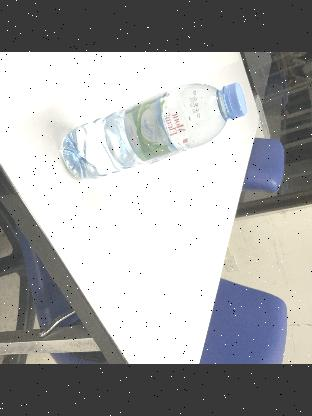Plastic Bottle: (59, 82, 245, 180)
